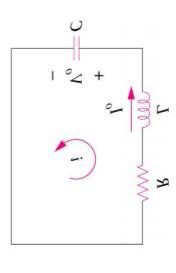inductor: (131, 81, 150, 140)
